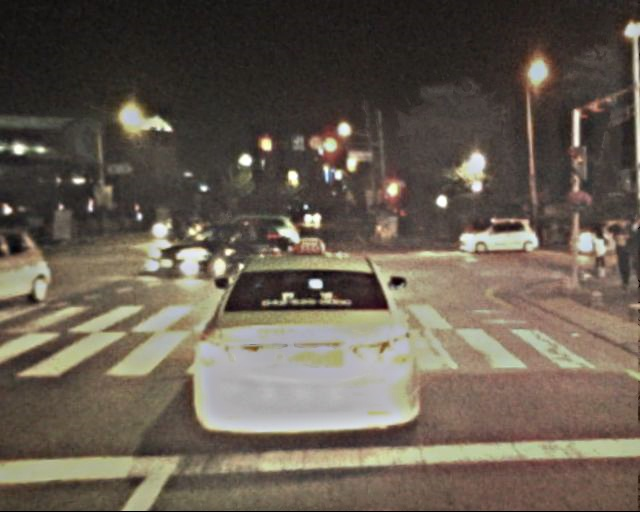person: (609, 217, 637, 286), (202, 210, 237, 234), (591, 231, 609, 276), (469, 218, 492, 247)
